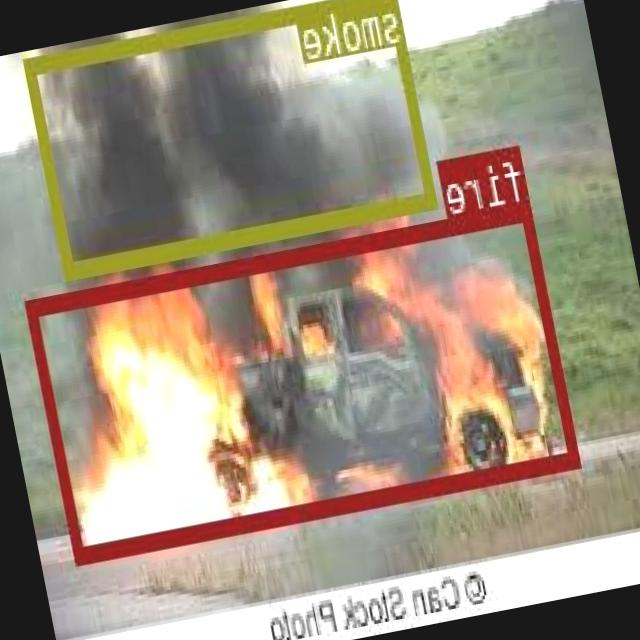fire: (28, 200, 582, 562)
smoke: (25, 0, 438, 275)
